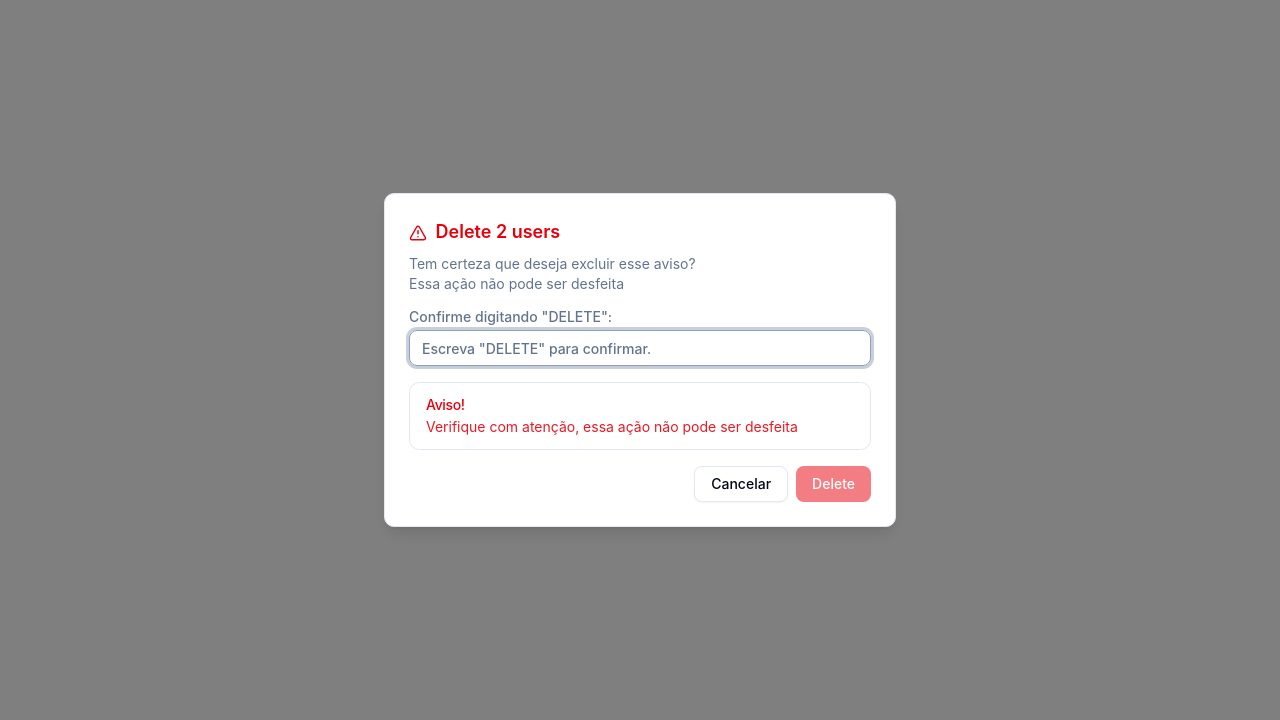
it: UsersMultiDeleteDialog › keeps the delete button disabled until the confirm delete input is filled correctly
The image size is (1280, 720).
Expected: the button "Delete" is disabled, [796,466,871,502]
In the field labelled "Confirme digitando \"DELETE\":": (640, 348) [409,330,871,366], type "wrong-input"
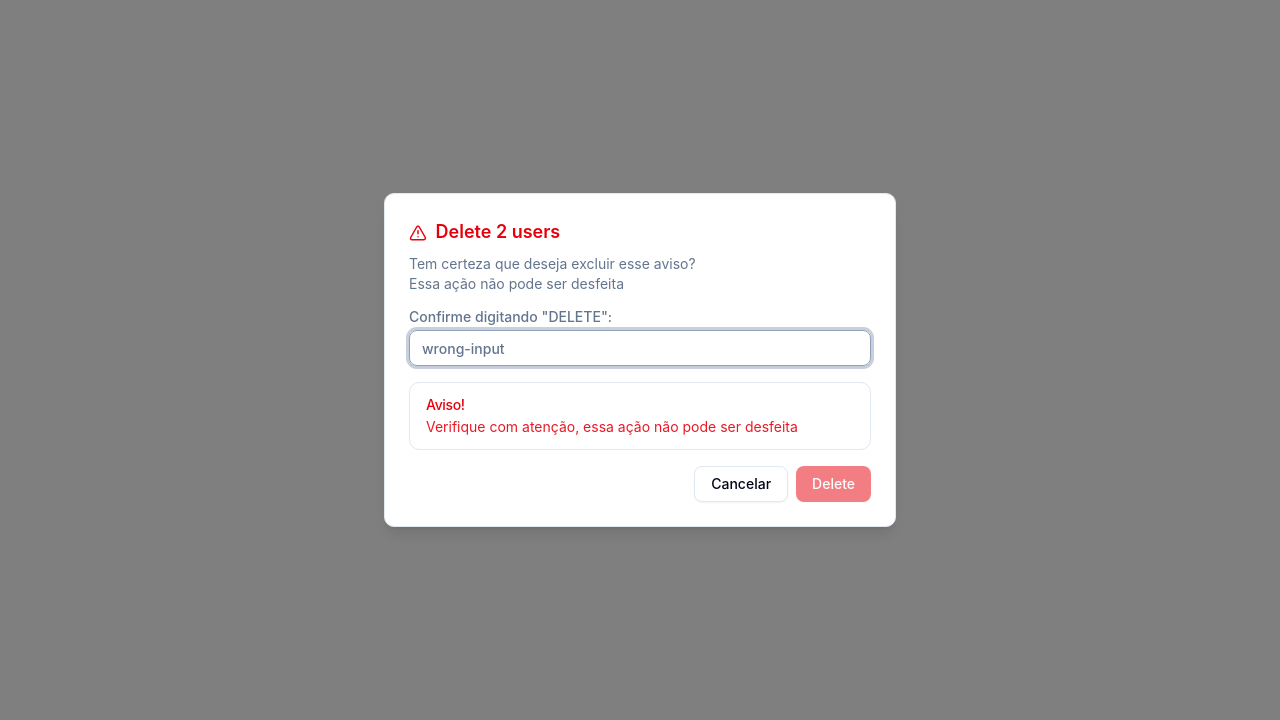
Expected: the button "Delete" is disabled, [796,466,871,502]
Replace the text in the field labelled "Confirme digitando \"DELETE\":" with "DELETE": (640, 348) [409,330,871,366]
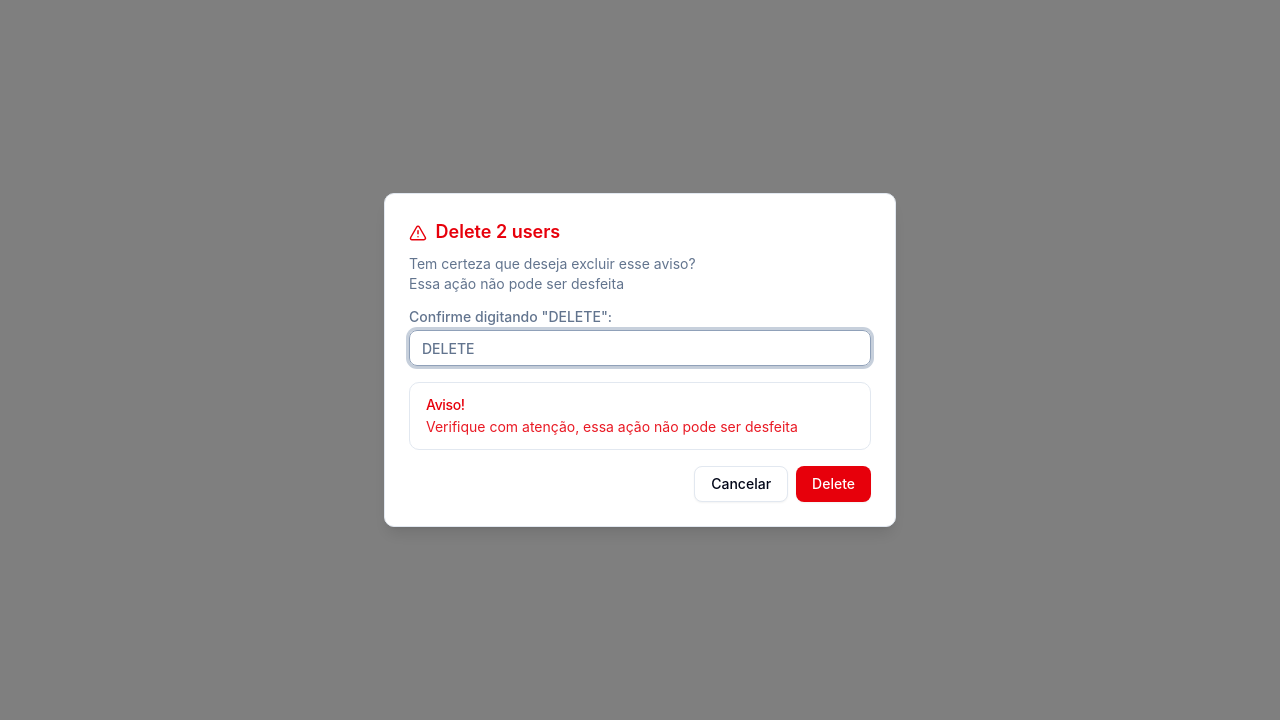
Result: the button "Delete" is enabled at [796,466,871,502]
